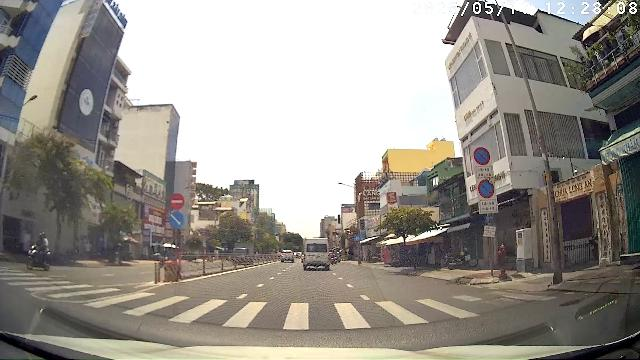102-cam-di-nguoc-chieu: (169, 192, 184, 210)
130-cam-dung-va-do-xe: (473, 146, 491, 165)
131a-cam-do-xe: (478, 179, 494, 198)
302a-huong-phai-di-vong-chuong-ngai-vat-1: (168, 211, 185, 229)
